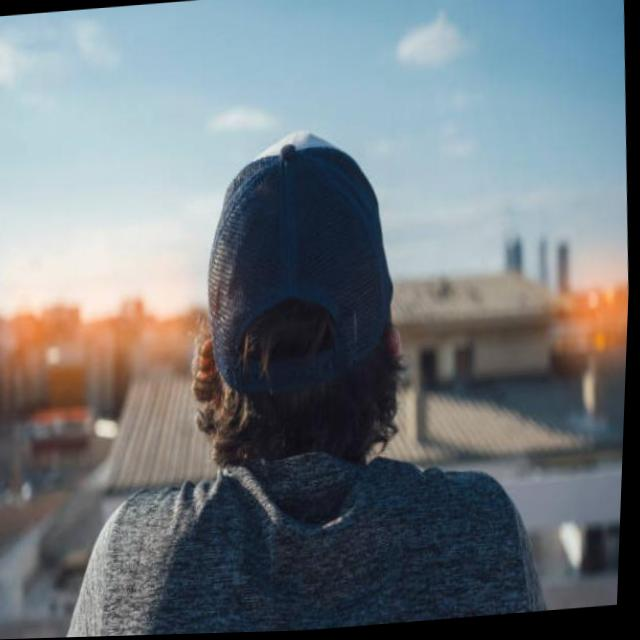no helmet: (171, 82, 428, 486)
